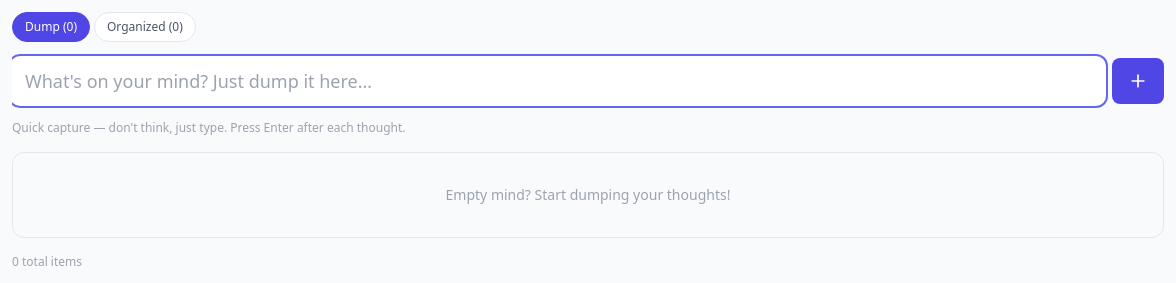
BrainDumpCapture – functional › adds a brain dump item via Enter
Type "Remember to buy groceries" into the field at (558, 81), box [12,58,1104,104]
Then press Enter
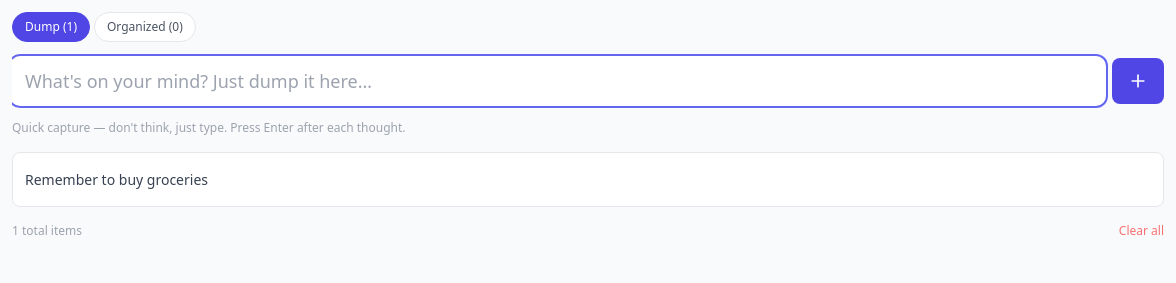
Expected: the text "Remember to buy groceries" is shown, [25,170,208,188]
